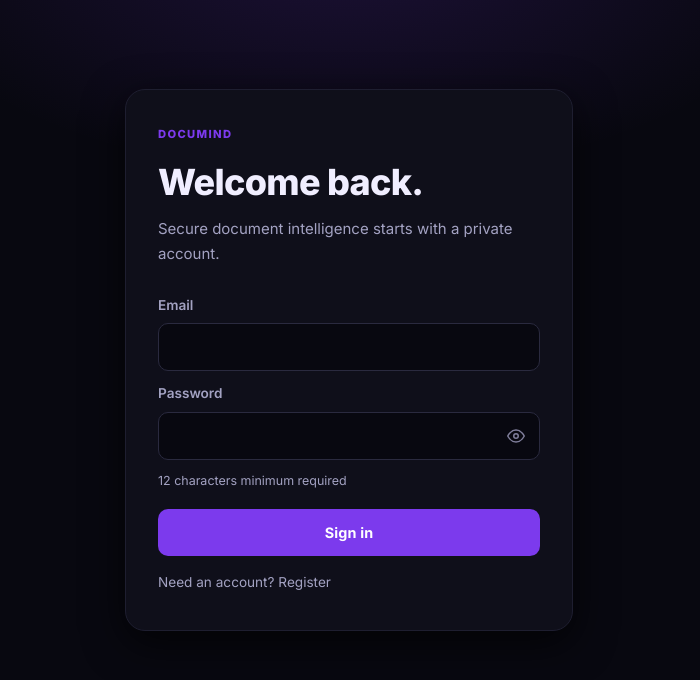
Test: HomePage Authentication Form & Onboarding › maps 422 validation error to friendly guidance message
Step 1. Type "bad@format" into the field labelled "Email" → (349, 347), box [158, 323, 540, 372]
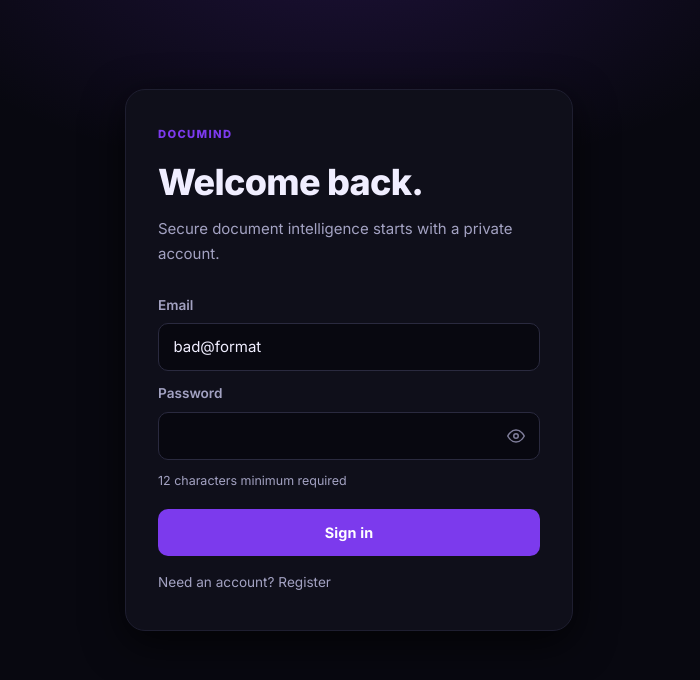
Step 2. Type "short" into the password field labelled "Password" → (349, 436), box [158, 412, 540, 460]
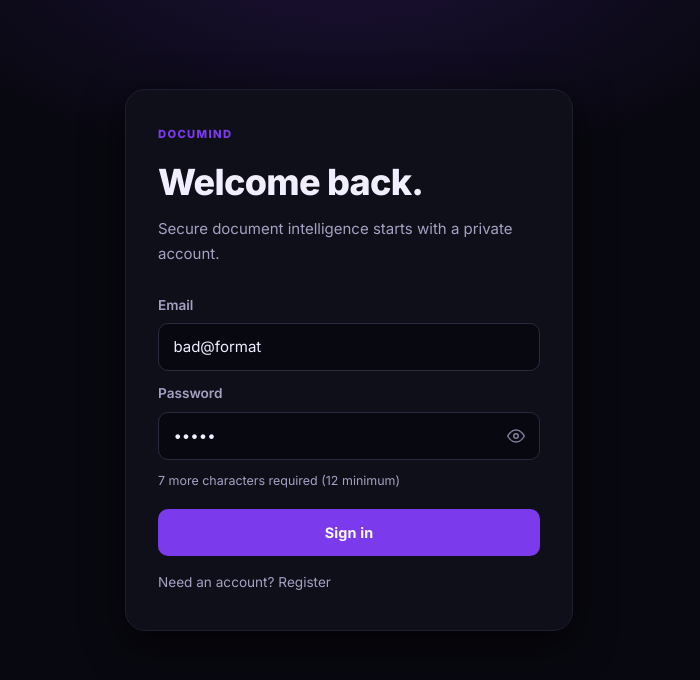
Step 3. Click the button "Sign in" → (349, 533), box [158, 509, 540, 556]
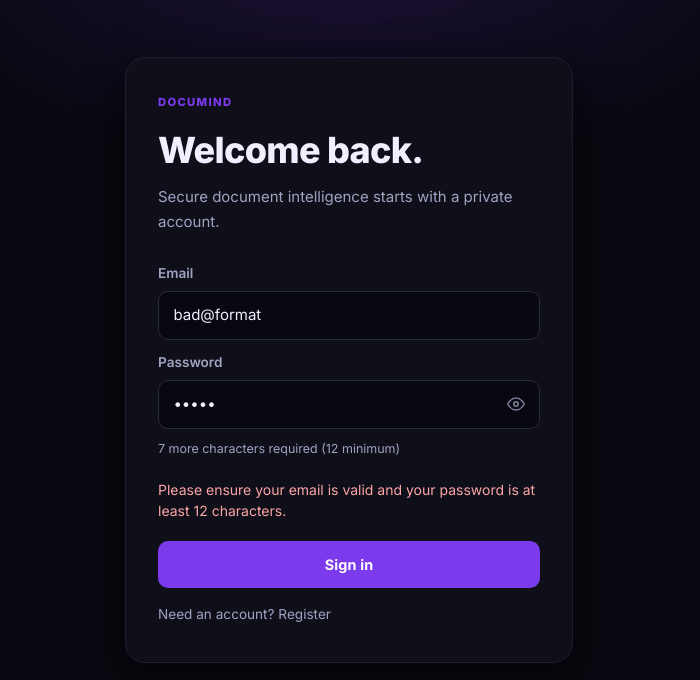
Check: the text "Please ensure your email is valid and your password is at least 12 characters." is shown, box [158, 479, 540, 521]
